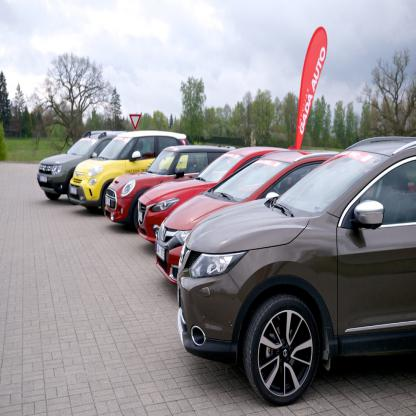Car: (36, 131, 416, 410)
